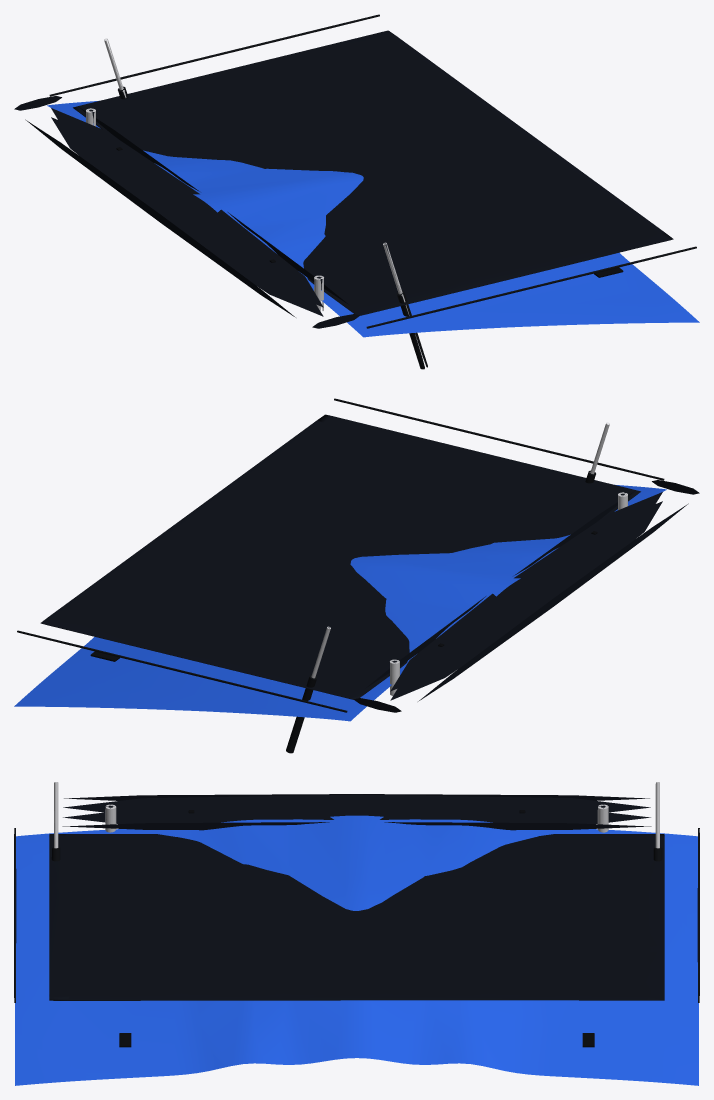
The model's file is bmw_i8_supercar_hood_closed.glb.
The picture shows the model from 3 angles, top to bottom: view 1: azimuth 30°, elevation 25°; view 2: azimuth 150°, elevation 25°; view 3: azimuth 270°, elevation 25°; orthographic projection. The views are drawn at different scales.
Visible parts, largest first — view 1: Block04_ProductionSculptedHood; view 2: Block04_ProductionSculptedHood; view 3: Block04_ProductionSculptedHood.
Part boxes in pixels (x1,y1,x2,y2): Block04_ProductionSculptedHood: [14, 14, 699, 369]; Block04_ProductionSculptedHood: [14, 398, 699, 753]; Block04_ProductionSculptedHood: [14, 782, 699, 1085].
Size of the model in its own units: 0.8599 by 0.2967 by 1.24.
